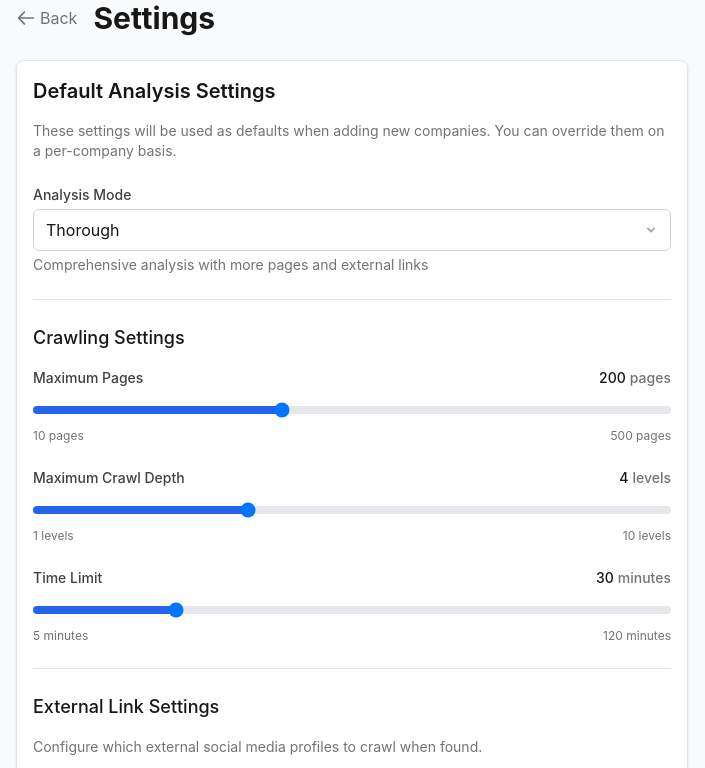
TestModePresets (UI-08) › Thorough mode enables social link following
# Select Quick mode first then switch back to Thorough
Select "Quick" in the dropdown labelled "Analysis Mode" at (352, 230), box [33,209,671,251]
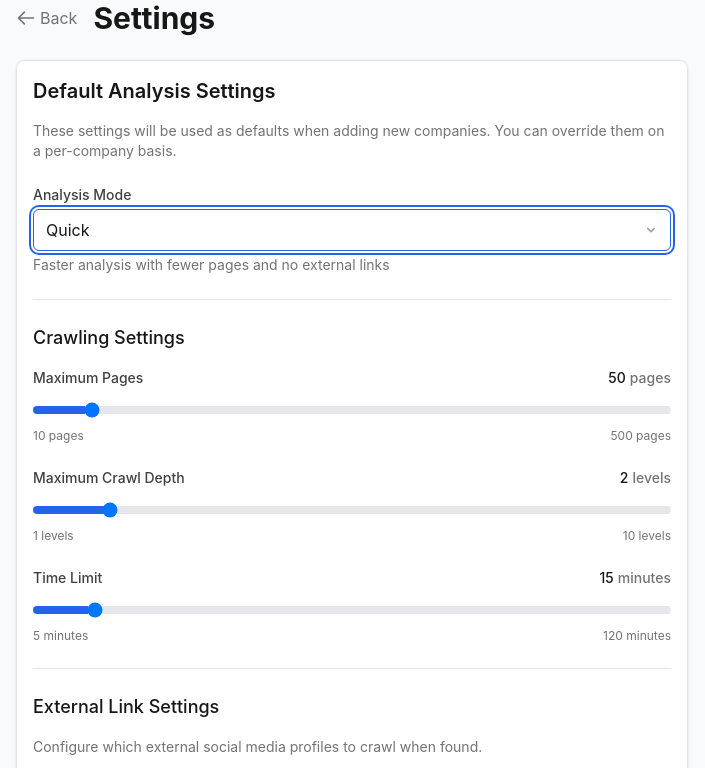
Select "Thorough" in the dropdown labelled "Analysis Mode" at (352, 230), box [33,209,671,251]
(page scrolled)
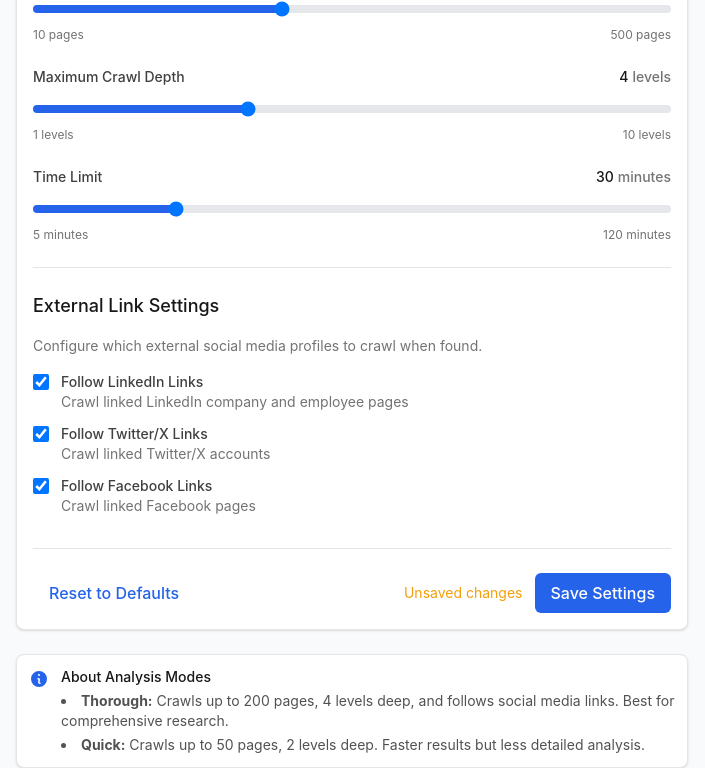
Result: the checkbox labelled "Follow LinkedIn Links" is checked at [33,374,49,390]
Result: the checkbox labelled "Follow Twitter/X Links" is checked at [33,426,49,442]
Result: the checkbox labelled "Follow Facebook Links" is checked at [33,478,49,494]
